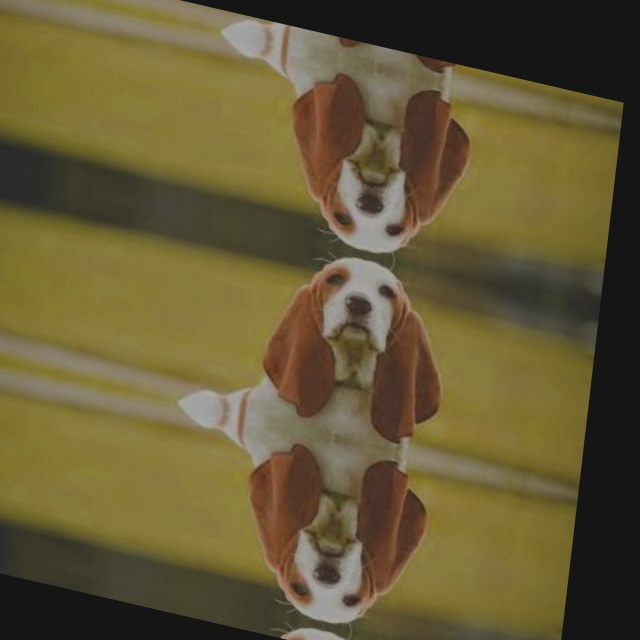dog: (255, 239, 464, 457), (277, 54, 486, 272), (233, 425, 442, 640), (298, 28, 489, 86), (230, 611, 421, 640)
